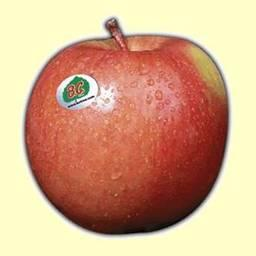apple: (23, 20, 228, 235)
